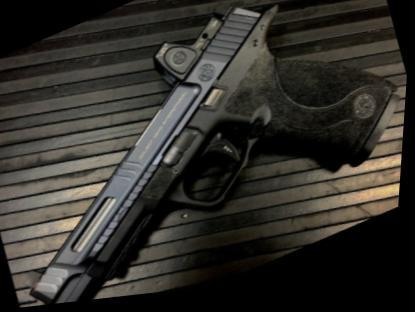pistol: (0, 0, 413, 311)
